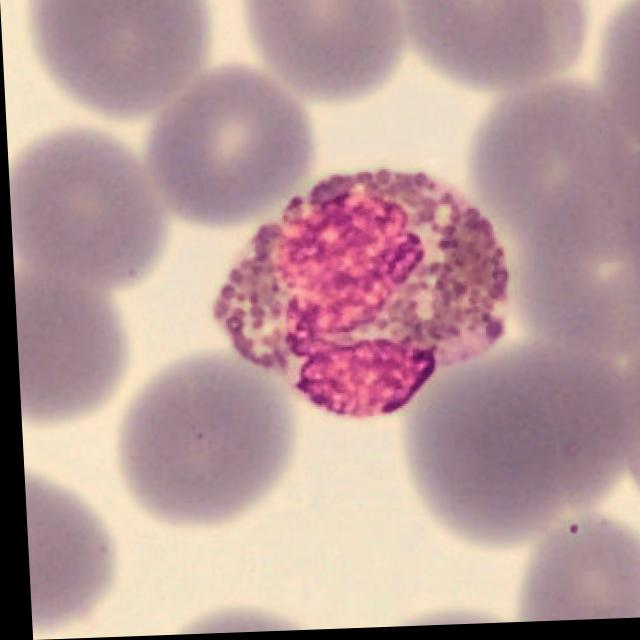Eosinofilo: (209, 171, 508, 421)
